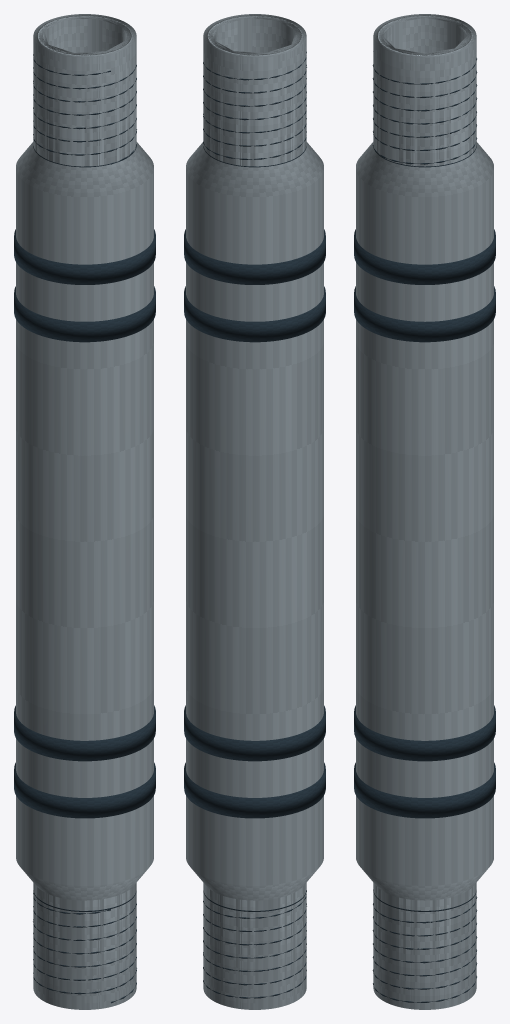
File: ubho.glb
3 renders of one model, left to right at view 1: azimuth 30°, elevation 25°; view 2: azimuth 150°, elevation 25°; view 3: azimuth 270°, elevation 25°, orthographic.
Parts seen in each view (by area): view 1: tool-housing (×3), service-features (×2), uphole-connection (×4), downhole-connection (×3); view 2: tool-housing (×3), service-features (×2), uphole-connection (×4), downhole-connection (×3); view 3: tool-housing (×3), service-features (×2), uphole-connection (×4), downhole-connection (×3).
Part boxes in pixels (x1,y1,x2,y2): tool-housing (×3): (16, 14, 153, 1009); service-features (×2): (14, 229, 155, 818); uphole-connection (×4): (33, 14, 136, 167); downhole-connection (×3): (33, 883, 136, 1009); tool-housing (×3): (186, 14, 323, 1009); service-features (×2): (184, 229, 325, 818); uphole-connection (×4): (203, 14, 306, 167); downhole-connection (×3): (203, 883, 306, 1009); tool-housing (×3): (356, 14, 493, 1009); service-features (×2): (354, 229, 495, 818); uphole-connection (×4): (372, 14, 477, 167); downhole-connection (×3): (372, 883, 477, 1009).
Size of the model in its own units: 0.1174 by 0.87 by 0.1174.
Materials: 3 (3 with a texture image).
